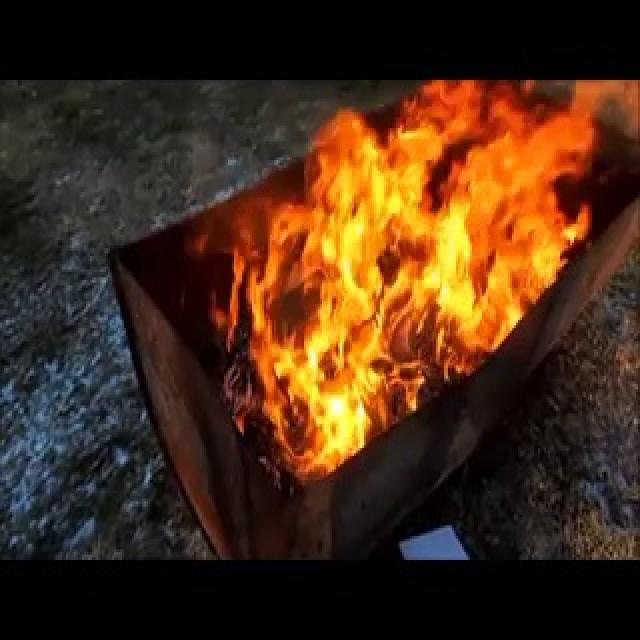fire: (207, 85, 599, 488)
